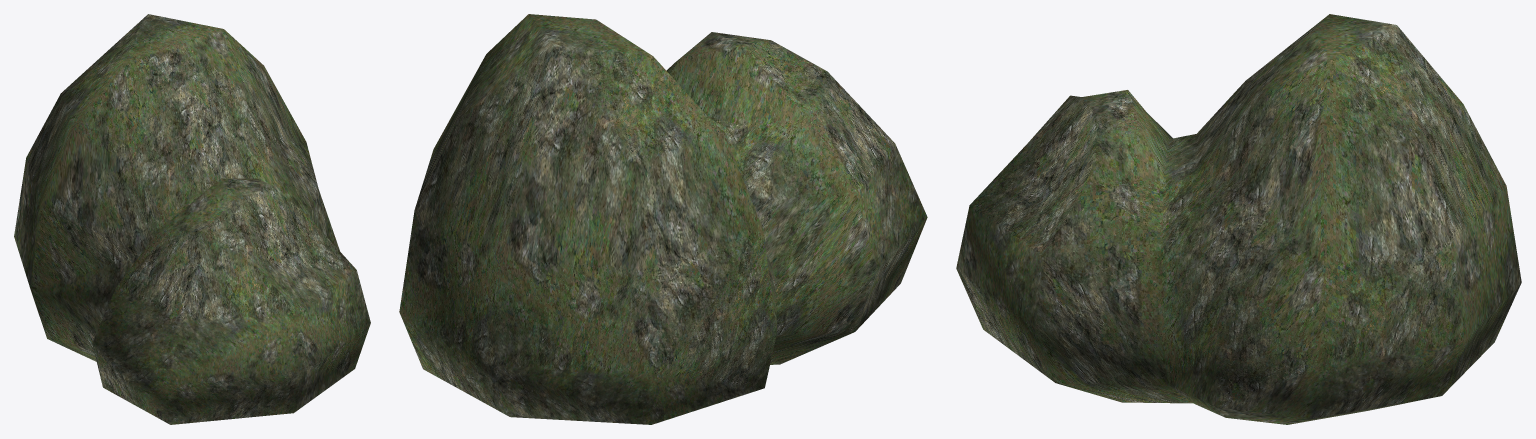
File: mtns_rock_moss_l0.fbx
The picture shows the model from 3 angles, left to right: view 1: azimuth 30°, elevation 25°; view 2: azimuth 150°, elevation 25°; view 3: azimuth 270°, elevation 25°; orthographic projection. The views are drawn at different scales.
Visible parts, largest first — view 1: mesh_node; view 2: mesh_node; view 3: mesh_node.
Part boxes in pixels (x1,y1,x2,y2): mesh_node: (14, 14, 370, 424); mesh_node: (399, 14, 927, 424); mesh_node: (956, 14, 1521, 424).
Bounding box in the file's own units: 2.78 × 2.67 × 3.83.
